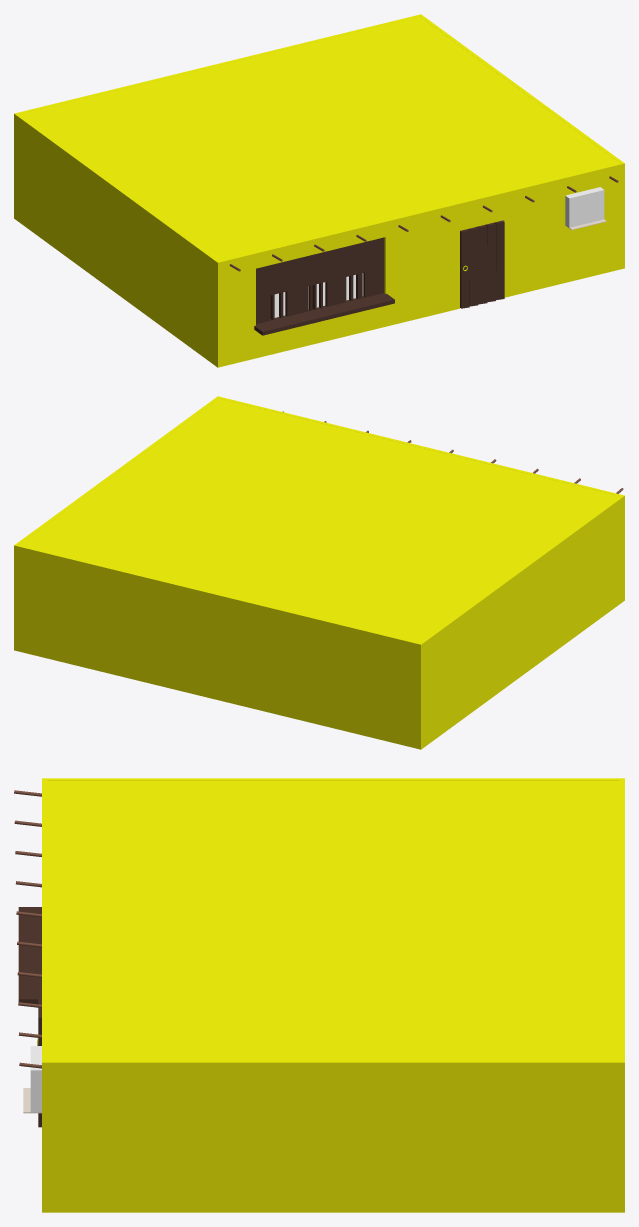
Rendered from marketHome.fbx.
3 views of the same model, one above another, from view 1: azimuth 30°, elevation 25°; view 2: azimuth 150°, elevation 25°; view 3: azimuth 270°, elevation 25° (orthographic). The views are drawn at different scales.
Parts seen in each view (by area): view 1: Cube.003, Room, Room.001, Cube.004, CTRL_Hole.001, Floor; view 2: Cube.003, Room; view 3: Cube.003, Room, Room.001, Cylinder, CTRL_Hole.001.
Boxes of the visible parts, box(x1,y1,x2,y2) form: Cube.003: box(19, 16, 619, 260); Room: box(14, 14, 624, 367); Room.001: box(254, 237, 394, 335); Cube.004: box(460, 220, 504, 308); CTRL_Hole.001: box(565, 187, 604, 227); Floor: box(274, 273, 363, 317); Cube.003: box(19, 398, 619, 642); Room: box(14, 396, 624, 749); Cube.003: box(47, 781, 619, 1059); Room: box(42, 778, 624, 1212); Room.001: box(18, 907, 41, 1004); Cylinder: box(14, 790, 41, 1068); CTRL_Hole.001: box(30, 1046, 41, 1113).
Size of the model in its own units: 1389 by 346 by 1262.
